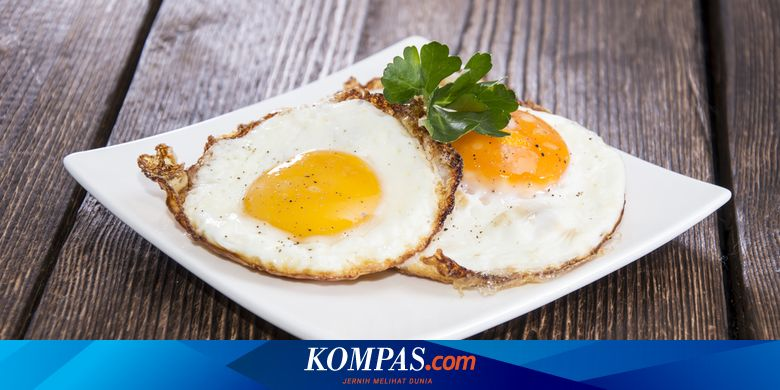Telur: (212, 83, 422, 306), (430, 78, 632, 287)
